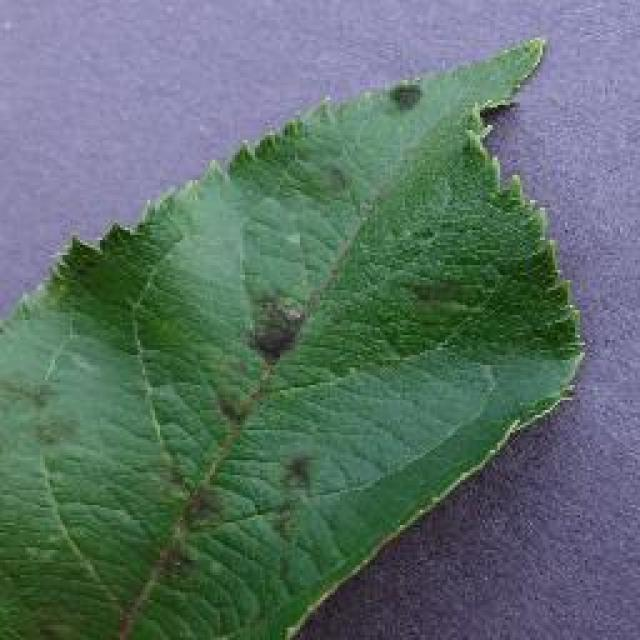apple scab disease: (0, 32, 588, 638)
